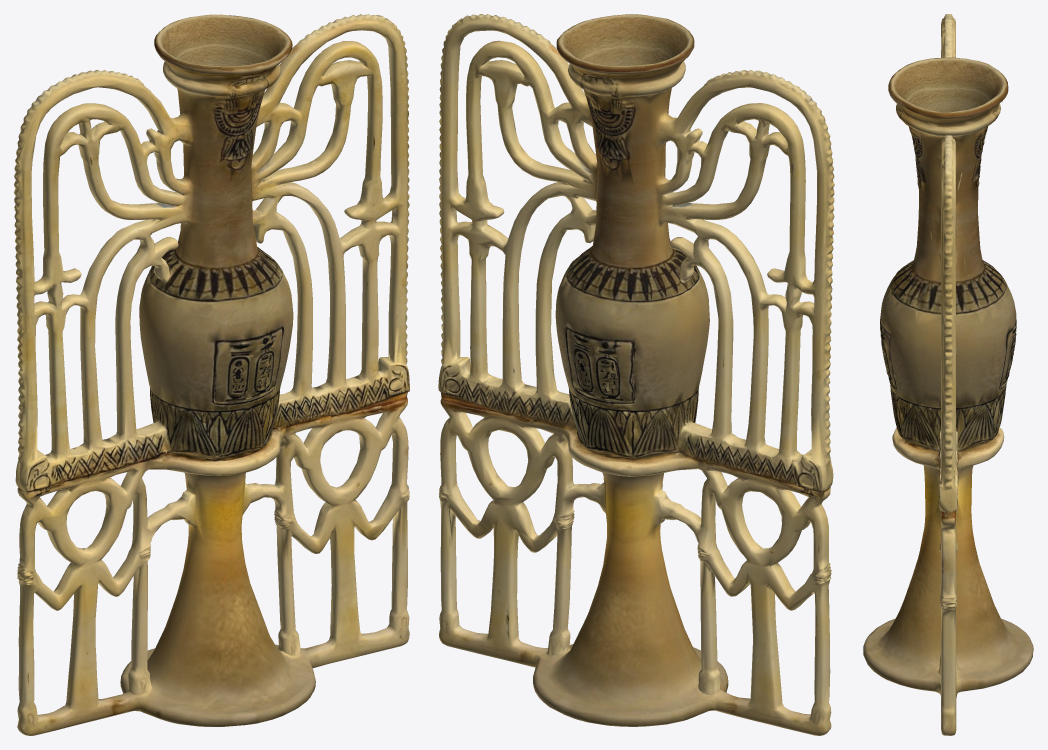
Rendered from lotus-ai.glb.
3 renders of one model, left to right at view 1: azimuth 30°, elevation 25°; view 2: azimuth 150°, elevation 25°; view 3: azimuth 270°, elevation 25°, orthographic. The views are drawn at different scales.
Size of the model in its own units: 1.21 by 1.9 by 0.5101.
1 material, 1 textured.
